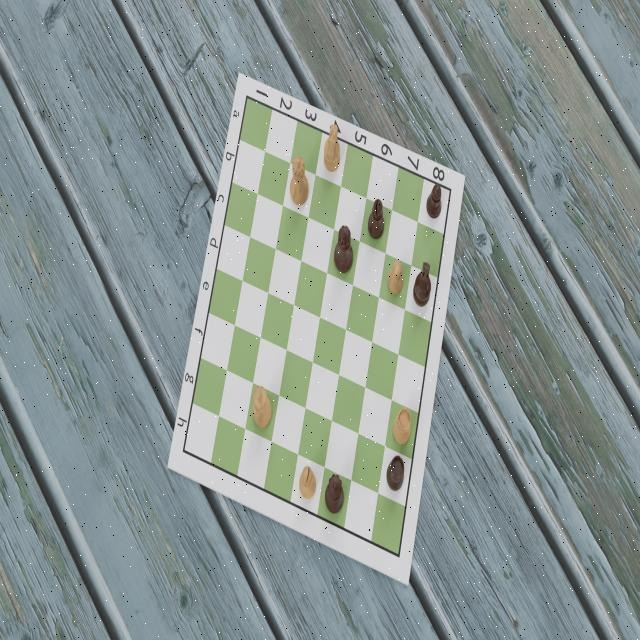black-bishop: (368, 195, 388, 242)
black-king: (332, 222, 355, 278)
black-knight: (412, 260, 432, 308)
black-pawn: (424, 182, 444, 220)
black-queen: (324, 470, 344, 513)
black-rook: (385, 452, 407, 495)
white-bishop: (298, 462, 318, 502)
white-king: (287, 153, 309, 207)
white-knight: (323, 124, 341, 176)
white-pawn: (385, 259, 404, 297)
white-queen: (250, 385, 273, 429)
white-rook: (391, 400, 413, 451)
